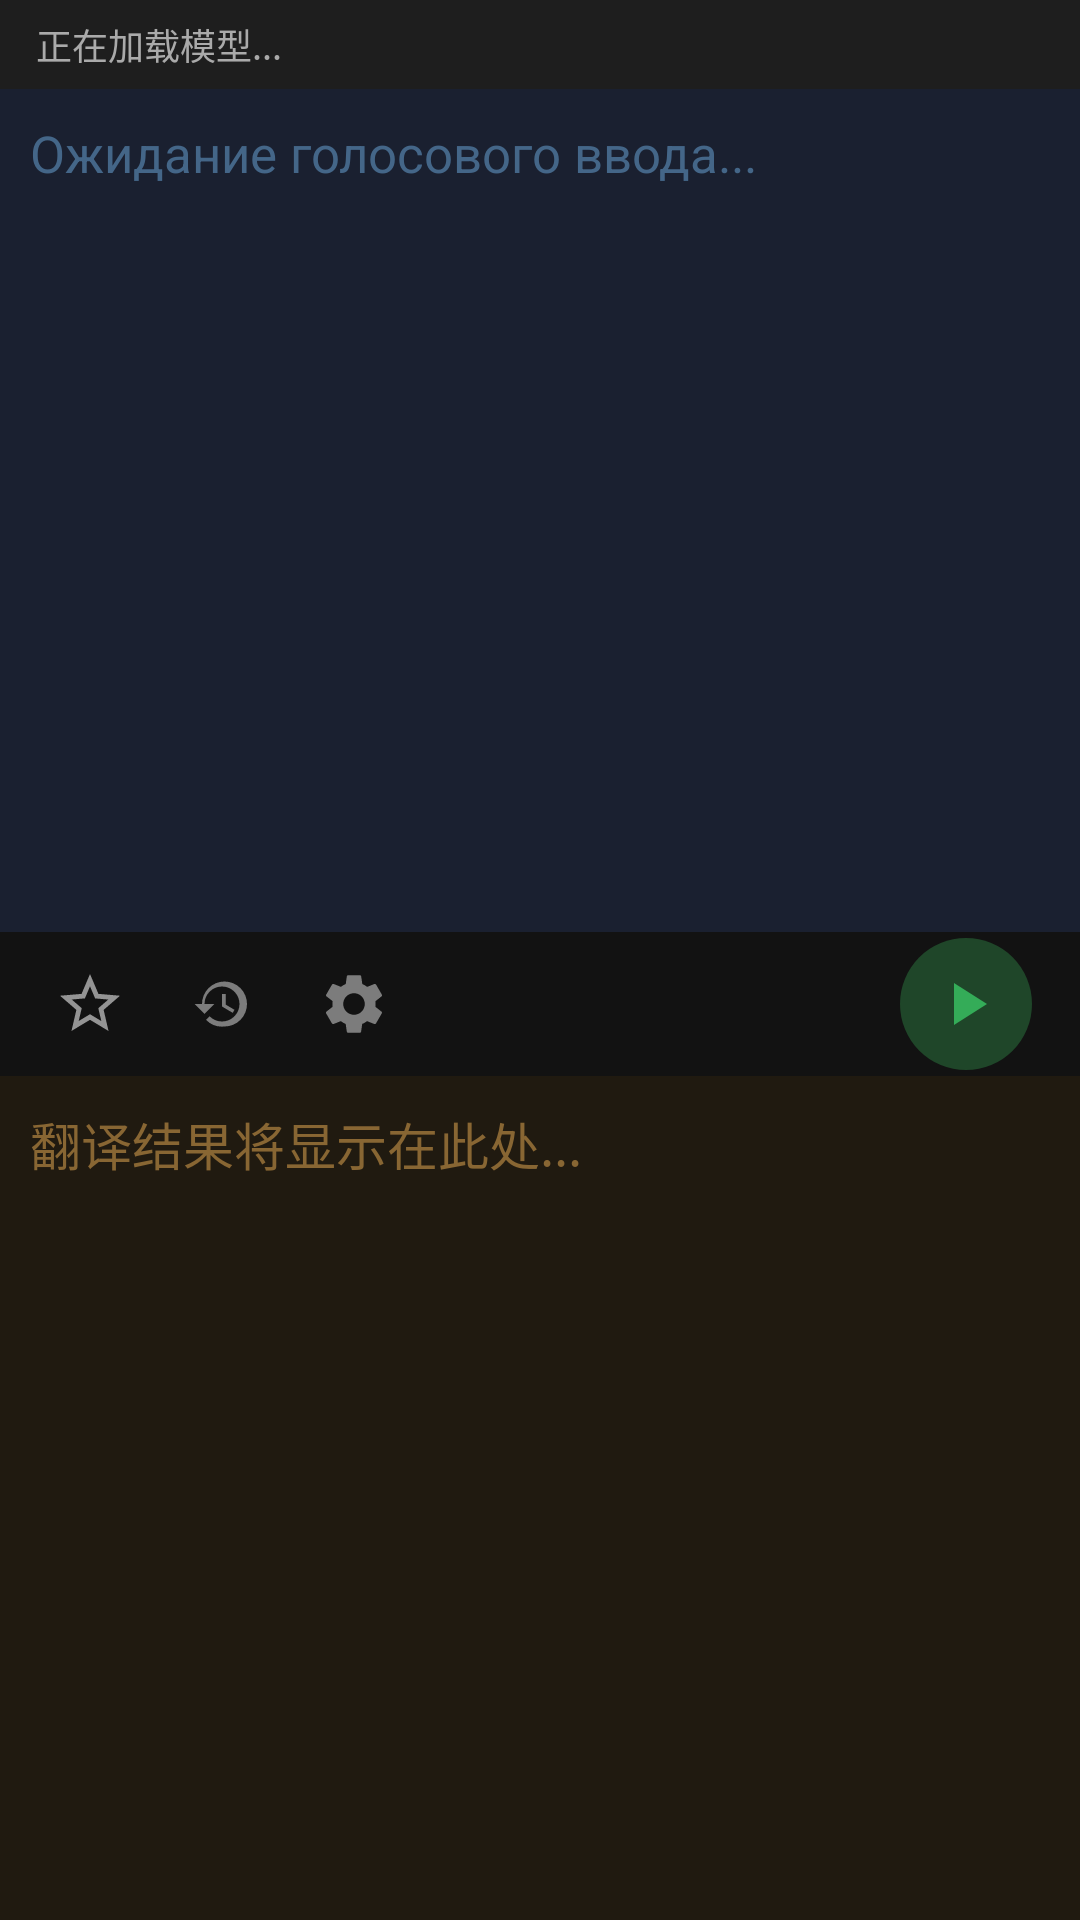

Icons on this 1080 × 1920 Android screen, each with its box as (x1, y1, x2, y2):
开始监听: (900, 938, 1032, 1070)
收藏: (61, 975, 119, 1031)
翻译历史: (195, 981, 247, 1027)
设置: (326, 975, 382, 1033)
